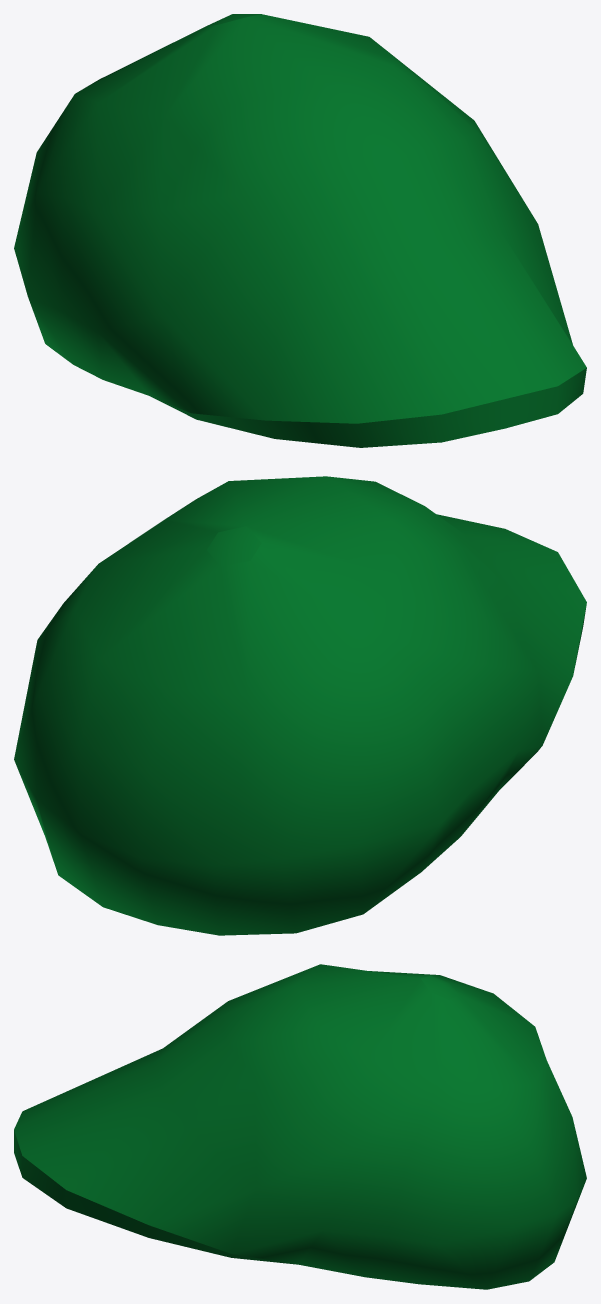
Rendered from Hat_02.fbx.
3 renders of one model, top to bottom at view 1: azimuth 30°, elevation 25°; view 2: azimuth 150°, elevation 25°; view 3: azimuth 270°, elevation 25°, orthographic. The views are drawn at different scales.
Visible parts, largest first — view 1: Hat_02; view 2: Hat_02; view 3: Hat_02.
Boxes of the visible parts, <box> form: Hat_02: <box>14,14,586,447</box>; Hat_02: <box>14,476,586,935</box>; Hat_02: <box>14,964,586,1289</box>.
Bounding box in the file's own units: 21.48 × 16.33 × 32.17.
